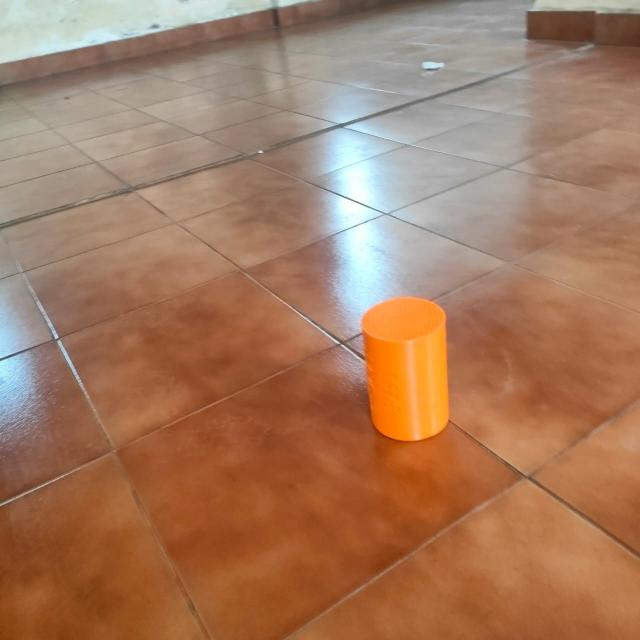Cylinder: (360, 295, 450, 441)
